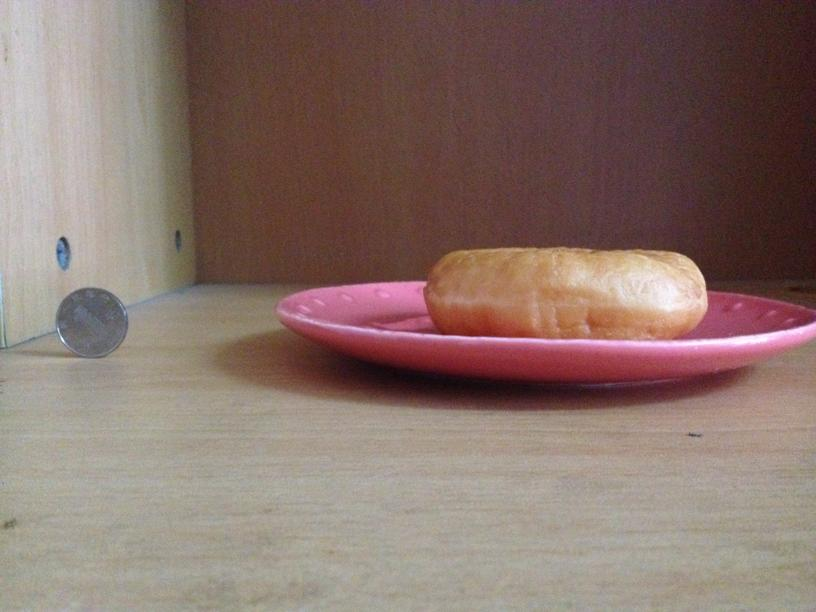coin: (53, 285, 129, 358)
doughnut: (424, 244, 709, 336)
